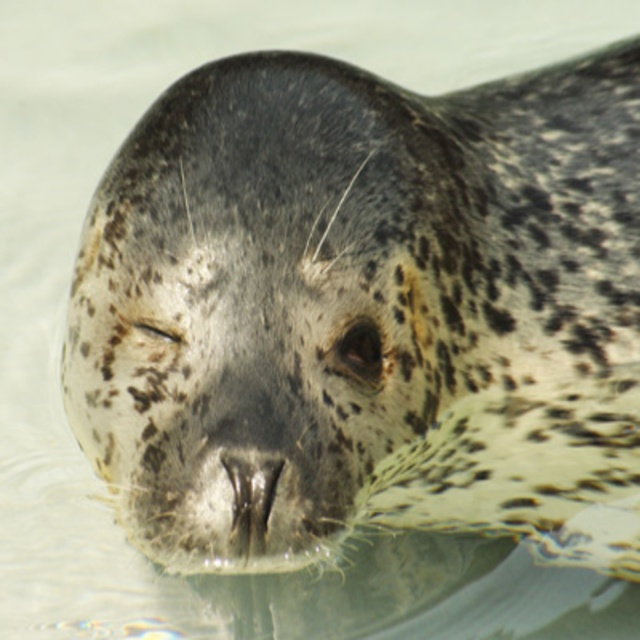Sea lion: (55, 33, 640, 591)
